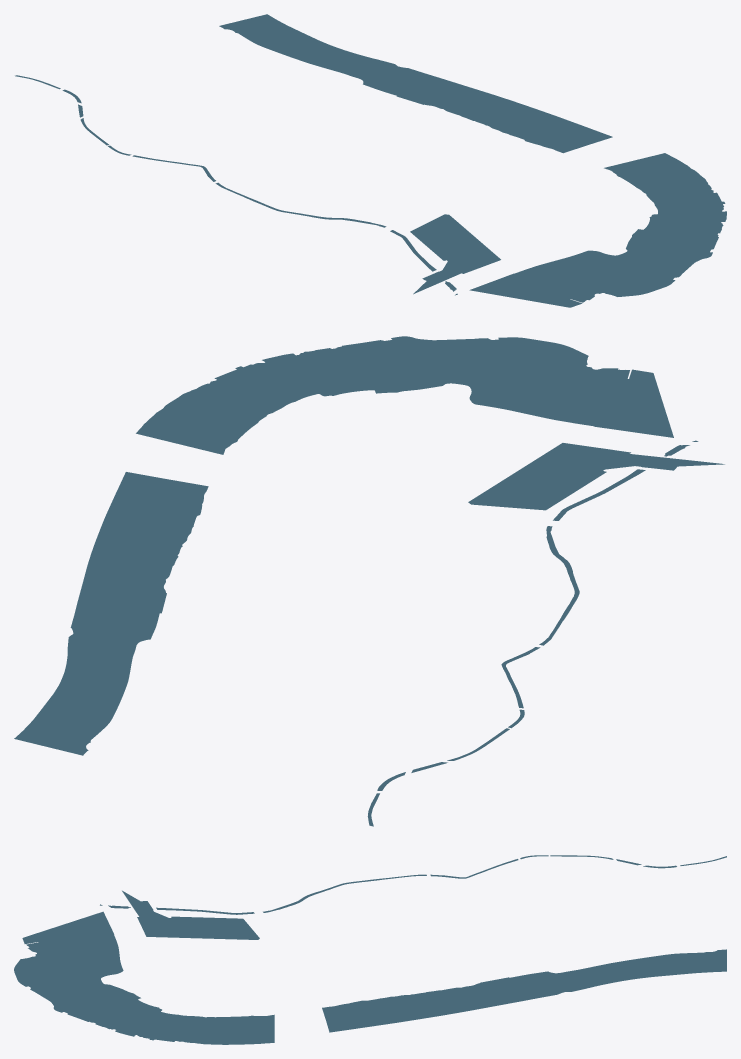
File: port-water-sea-packed.glb
3 renders of one model, top to bottom at view 1: azimuth 30°, elevation 25°; view 2: azimuth 150°, elevation 25°; view 3: azimuth 270°, elevation 25°, orthographic. The views are drawn at different scales.
Size of the model in its own units: 990 by 0 by 1573.
